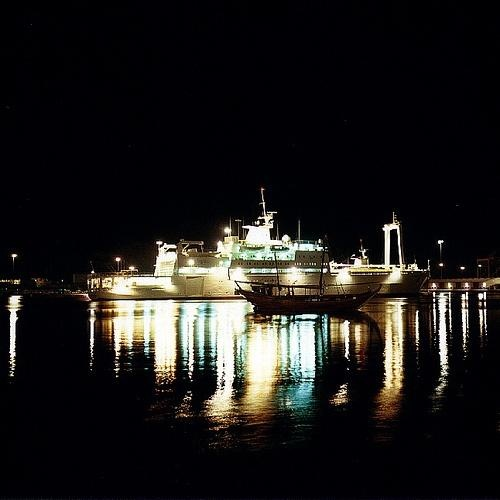boat: (89, 213, 432, 301), (235, 280, 384, 313)
